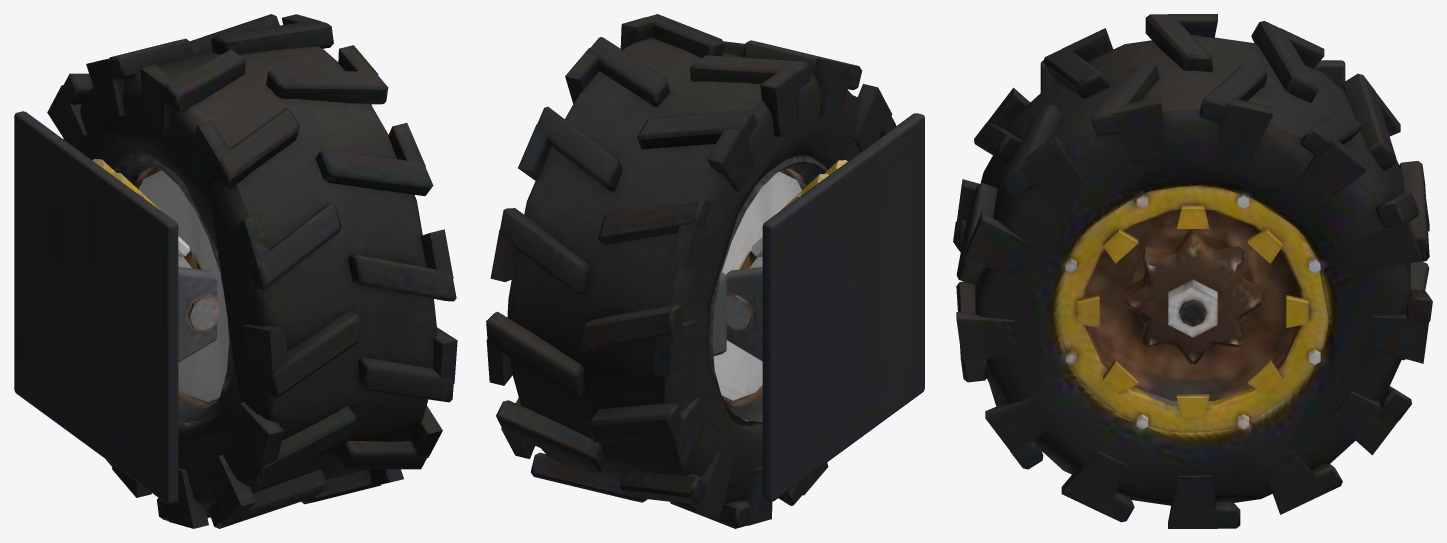
Rendered from R4M_WheelM_Side_Offroad_LOD1.glb.
3 views of the same model, side by side, from view 1: azimuth 30°, elevation 25°; view 2: azimuth 150°, elevation 25°; view 3: azimuth 270°, elevation 25° (orthographic).
Parts seen in each view (by area): view 1: R4M_WheelM_Side_Offroad_LOD1; view 2: R4M_WheelM_Side_Offroad_LOD1; view 3: R4M_WheelM_Side_Offroad_LOD1.
Boxes of the visible parts, x1,y1,x2,y2 form: R4M_WheelM_Side_Offroad_LOD1: [14, 14, 457, 528]; R4M_WheelM_Side_Offroad_LOD1: [486, 14, 924, 528]; R4M_WheelM_Side_Offroad_LOD1: [953, 14, 1432, 528].
Bounding box in the file's own units: 0.452 × 0.771 × 0.7711.
Materials: 5 (5 with a texture image).
